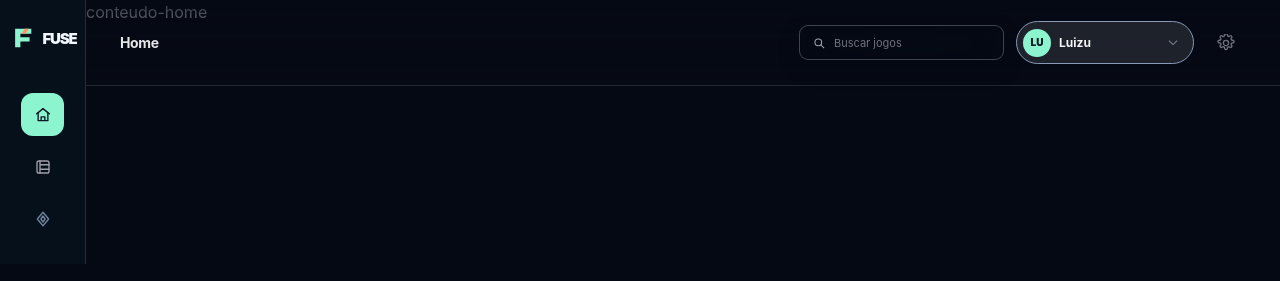
Test: shows the current destination context in the topbar
Check: the text "conteudo-home" is shown, box [86, 2, 207, 22]
Check: the text "Home" is shown, box [120, 32, 159, 52]
Click the link named "Biblioteca" at (42, 166), box [34, 158, 52, 176]
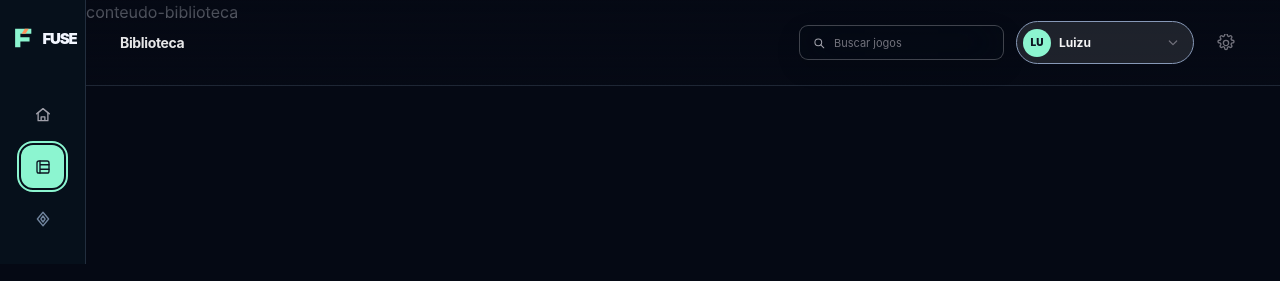
Check: the text "conteudo-biblioteca" is shown, box [86, 2, 238, 22]
Check: the text "Biblioteca" is shown, box [120, 32, 184, 52]
